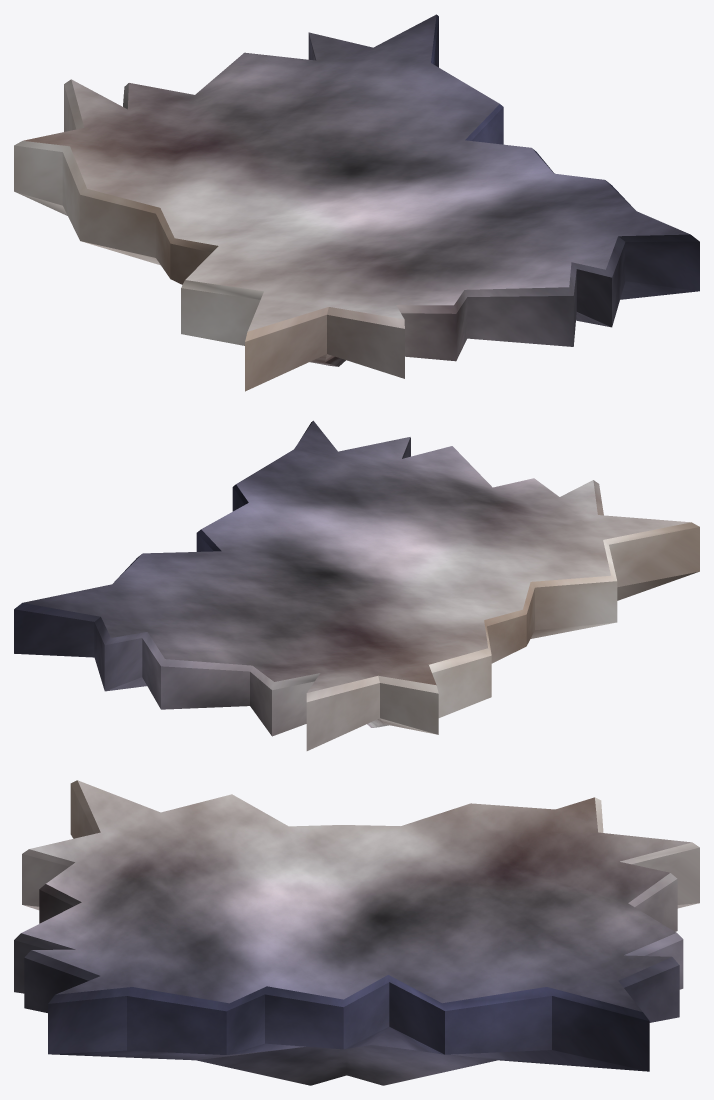
Rendered from envPlat4Broken.fbx.
The picture shows the model from 3 angles, top to bottom: view 1: azimuth 30°, elevation 25°; view 2: azimuth 150°, elevation 25°; view 3: azimuth 270°, elevation 25°; orthographic projection. The views are drawn at different scales.
Parts seen in each view (by area): view 1: envPlat4Broken; view 2: envPlat4Broken; view 3: envPlat4Broken.
Part boxes in pixels (x1=…): envPlat4Broken: x1=14, y1=14, x2=699, y2=391; envPlat4Broken: x1=14, y1=420, x2=699, y2=750; envPlat4Broken: x1=14, y1=780, x2=699, y2=1085.
Size of the model in its own units: 2.57 by 0.8556 by 3.14.
